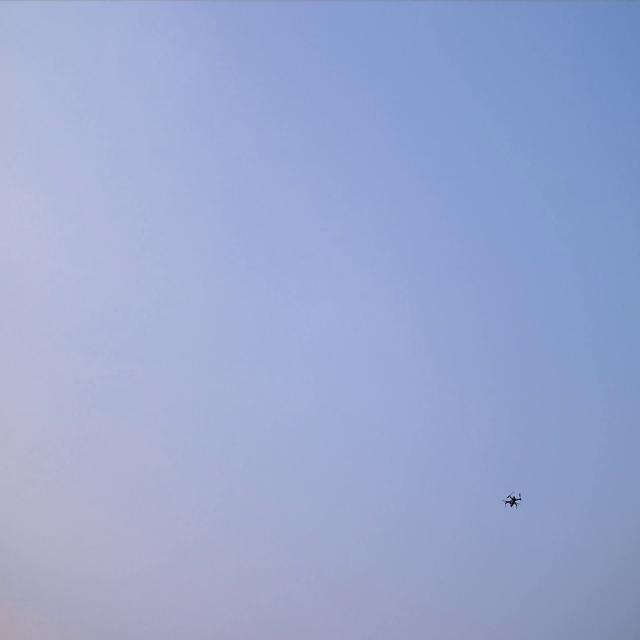UAV: (505, 494, 521, 506)
